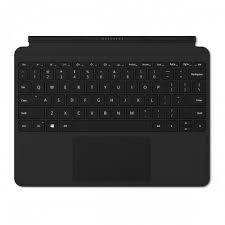keyboard: (17, 54, 207, 135)
